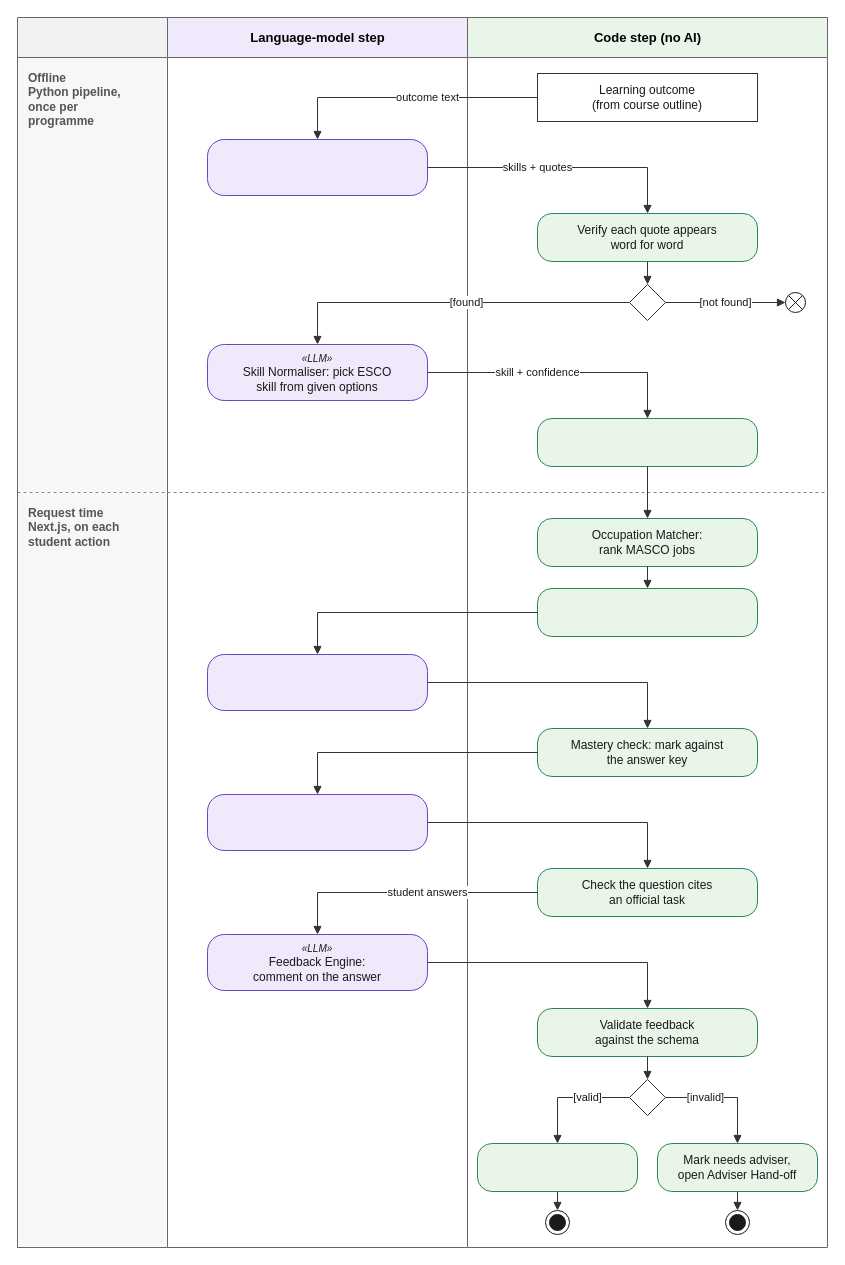
Some shapes in this 845 by 1265 pixel diagram are drawn without their labels. The shapes that lost their labels are listed below. From the top down, each one's box as (x1, y1, x2, y2) in pixels, then its label:
(206, 138, 428, 196): «LLM» Skill Extractor: list skills, quote each source
(536, 418, 758, 466): Store link: covered (≥ τ) or flagged (< τ)
(16, 16, 168, 1248): Phase
(536, 588, 758, 636): Gap Planner: order gap skills
(206, 654, 428, 710): «LLM» Lesson Engine: give the next hint
(206, 794, 428, 850): «LLM» Interview Engine: write a question for the job
(476, 1142, 638, 1192): Show feedback, queue weak areas
